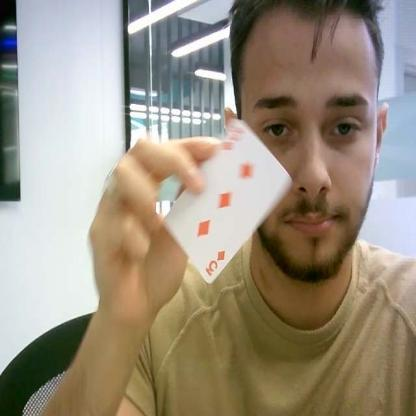3D: (223, 124, 243, 152), (205, 249, 225, 276)
